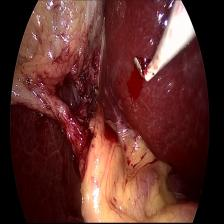Hook: (131, 4, 195, 95)
